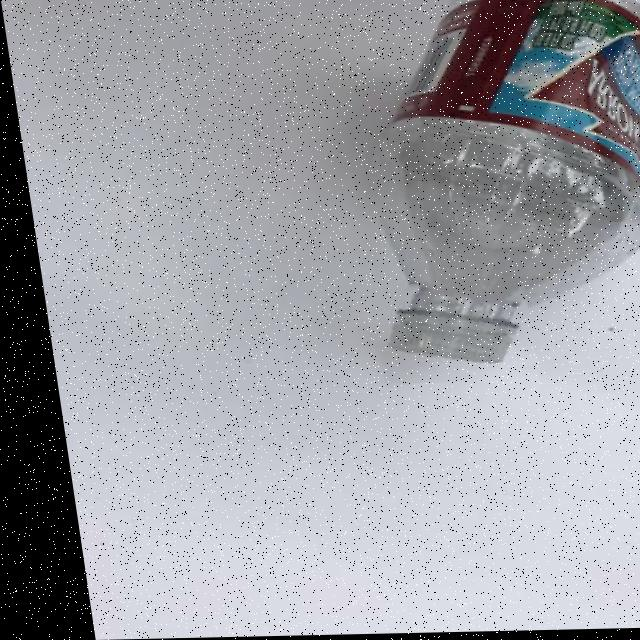plasticbottlecap: (351, 279, 526, 385)
